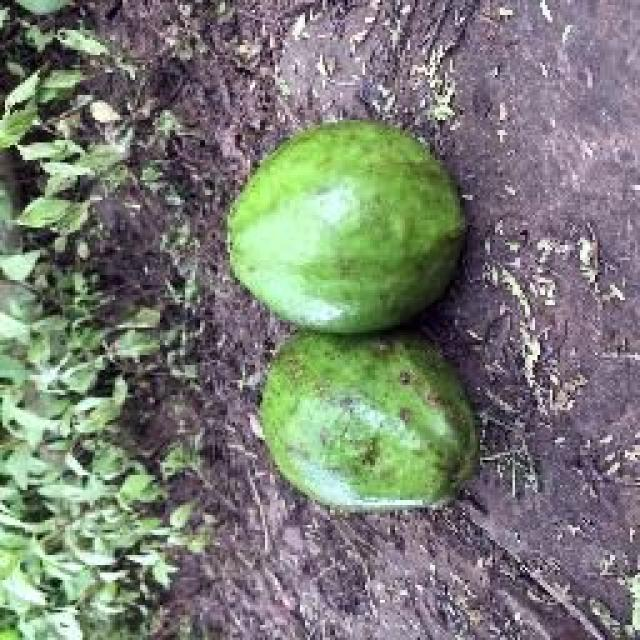Good_Guava: (225, 122, 468, 335), (258, 328, 480, 510)
